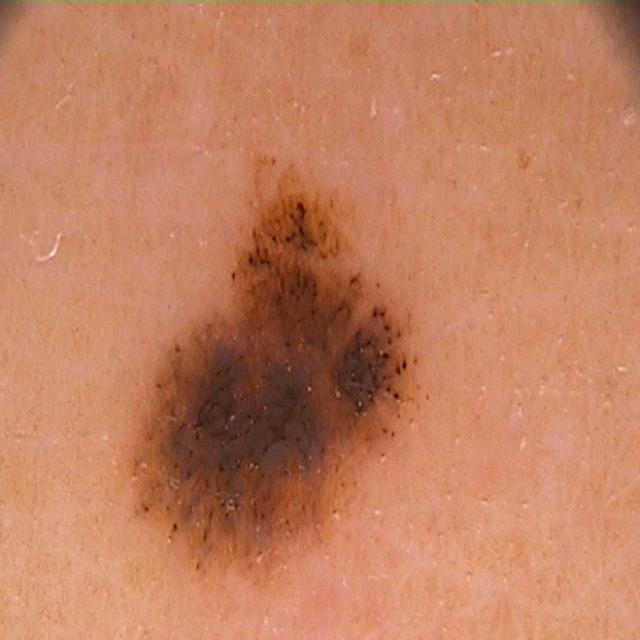Melanoma: (151, 138, 454, 606)
